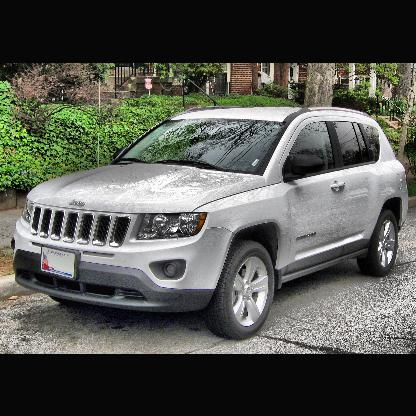Jeep Compass SUV 2012: (12, 105, 411, 347)
